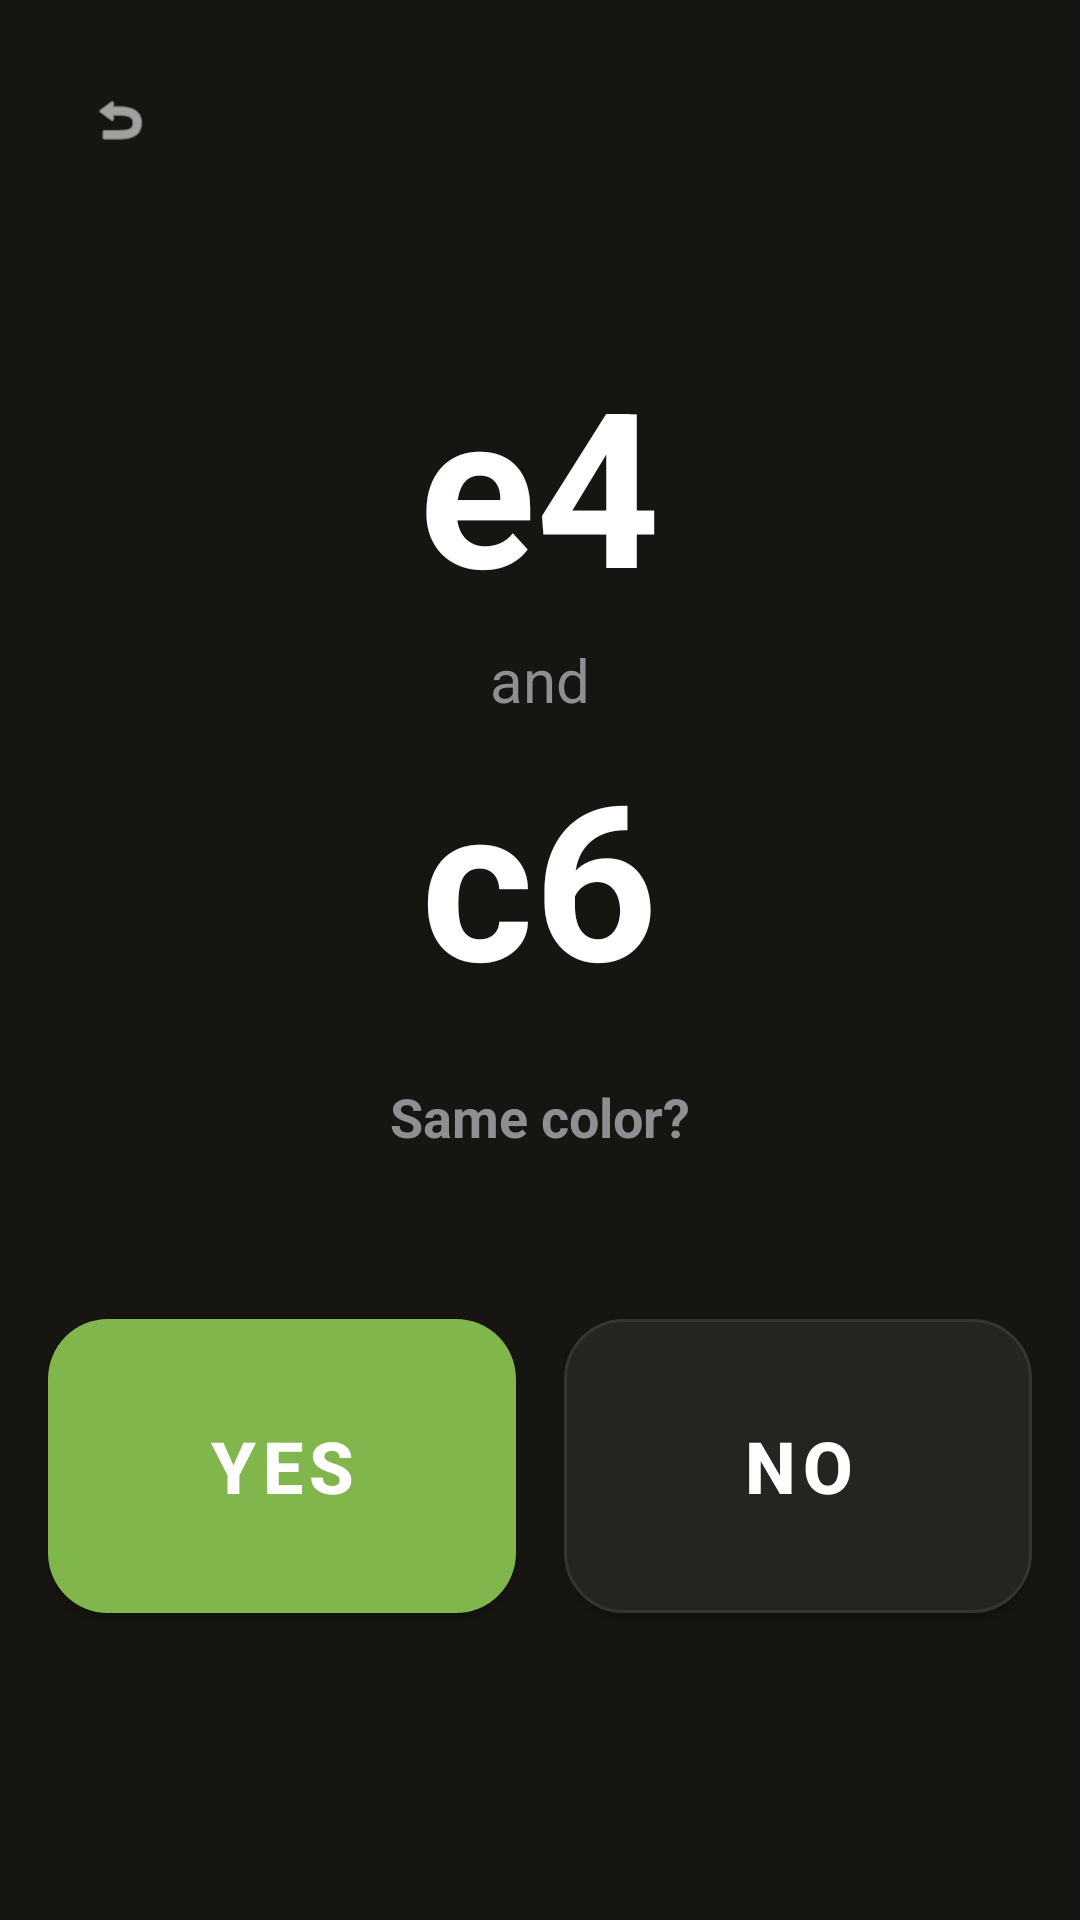

Icon click points for this 1080px×1920px phone screenshot, format (x=x, y=y):
Back: (x=120, y=120)
